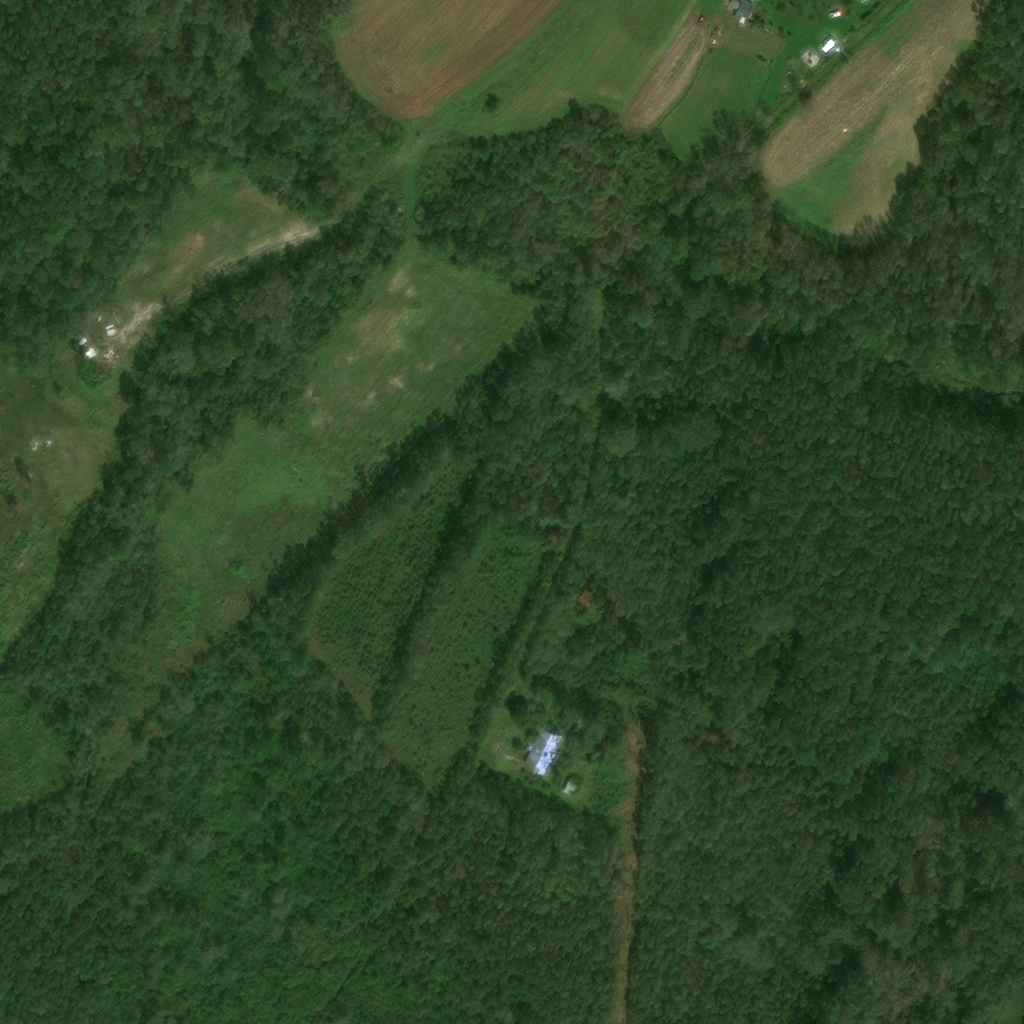no_damage: (522, 726, 562, 773), (735, 0, 757, 23)
